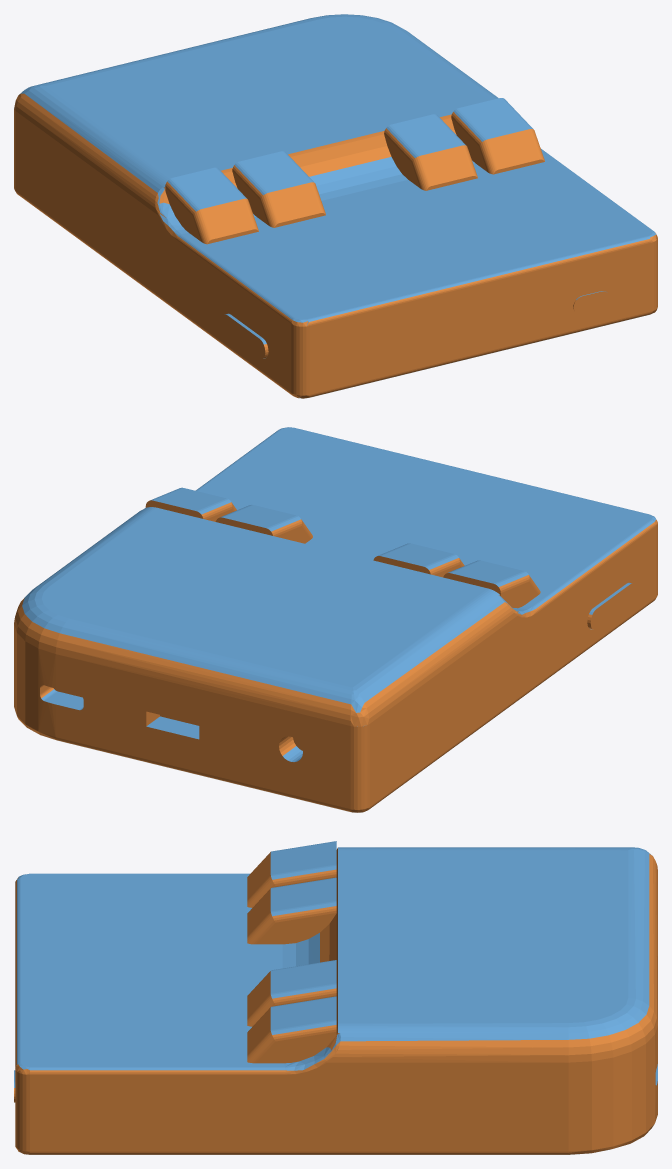
Rendered from miyoo.obj.
3 views of the same model, one above another, from view 1: azimuth 30°, elevation 25°; view 2: azimuth 150°, elevation 25°; view 3: azimuth 270°, elevation 25° (orthographic). The views are drawn at different scales.
Parts seen in each view (by area): view 1: Body2; view 2: Body2; view 3: Body2.
Part boxes in pixels (x1,y1,x2,y2): Body2: [14, 14, 657, 398]; Body2: [14, 427, 657, 812]; Body2: [14, 841, 657, 1154].
Size of the model in its own units: 79.48 by 25.98 by 108.
